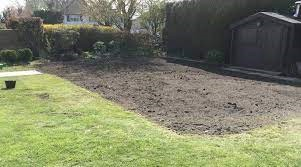dirt: (35, 58, 300, 134)
grass: (0, 73, 108, 165), (170, 131, 299, 165), (109, 105, 167, 164)
